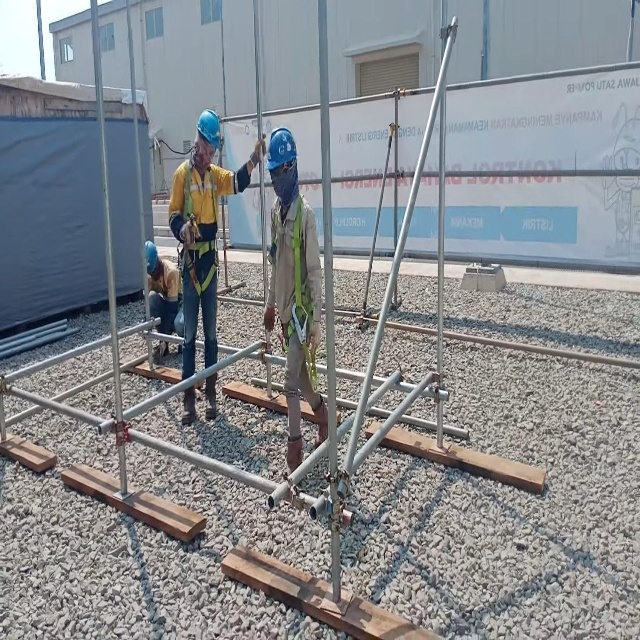Arnes_seguridad: (270, 190, 320, 397), (179, 152, 222, 296)
